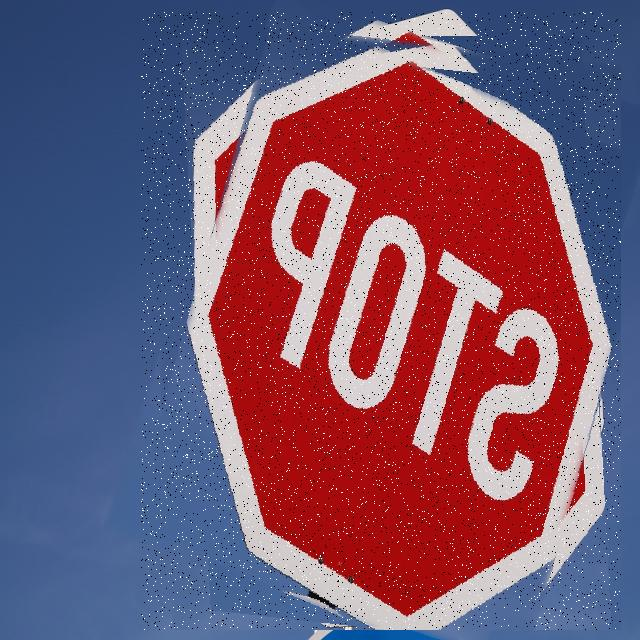stop: (141, 12, 621, 630)
